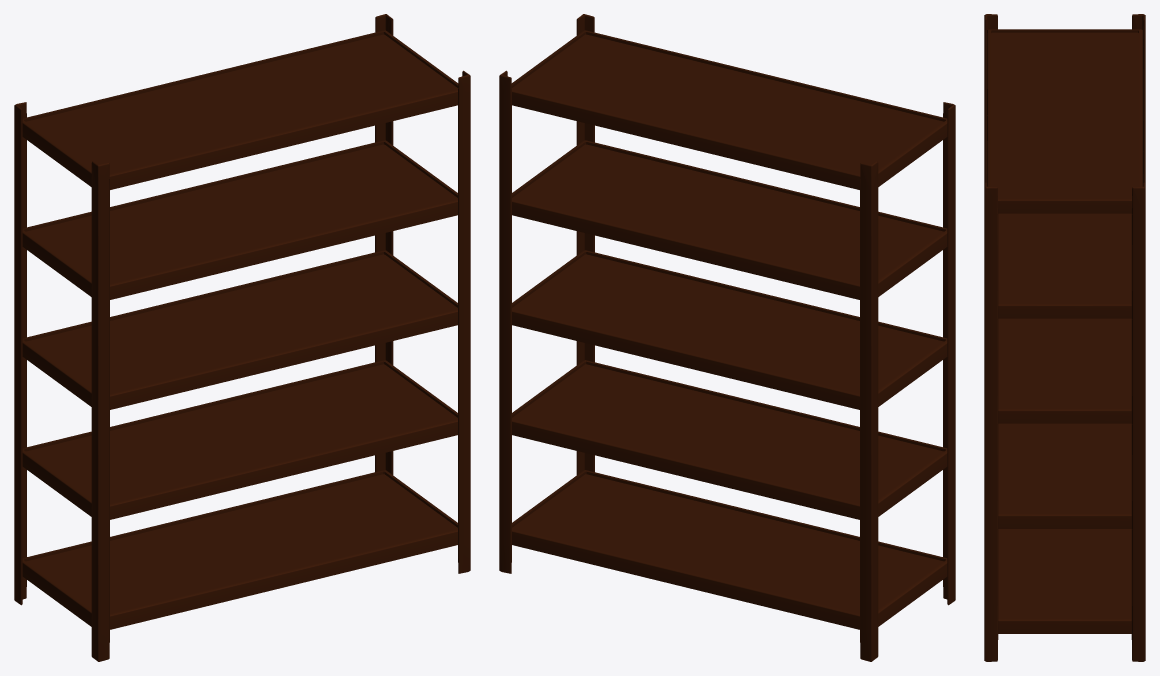
The model's file is metal rack 2.fbx.
3 renders of one model, left to right at view 1: azimuth 30°, elevation 25°; view 2: azimuth 150°, elevation 25°; view 3: azimuth 270°, elevation 25°, orthographic. The views are drawn at different scales.
Visible parts, largest first — view 1: FMB_Rack_01_2; view 2: FMB_Rack_01_2; view 3: FMB_Rack_01_2.
Part boxes in pixels (left/top/right/bottom): FMB_Rack_01_2: left=14, top=14, right=470, bottom=661; FMB_Rack_01_2: left=499, top=14, right=955, bottom=661; FMB_Rack_01_2: left=984, top=14, right=1145, bottom=661.
Bounding box in the file's own units: 203 × 79.36 × 258.
